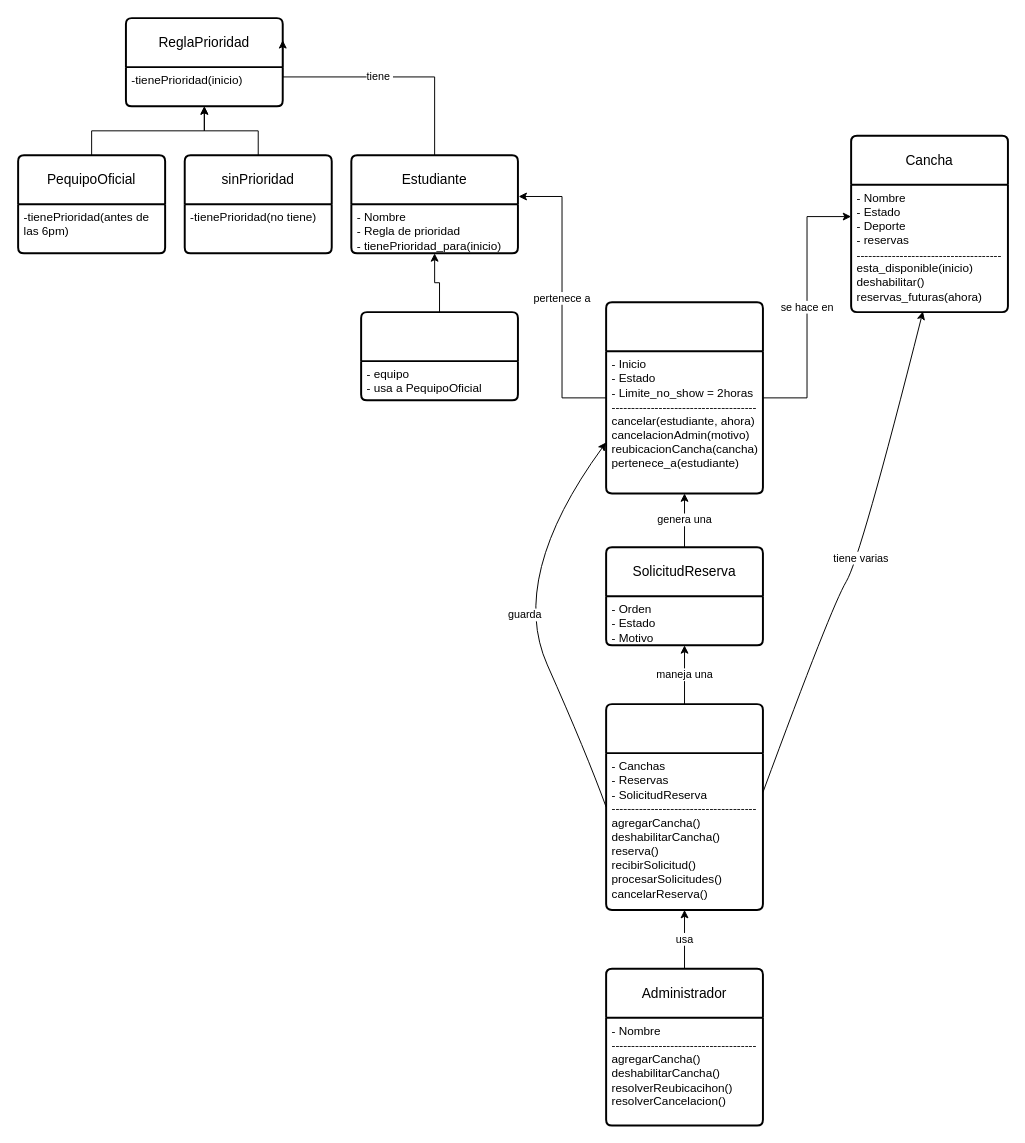
This 1025x1143 diagram has some shape labels left out. The shapes that lost their labels are listed below. From the top down, each one's box as (x1, y1, x2, y2) in pixels, then its label:
(360, 311, 518, 401): Capitan
(605, 301, 763, 494): Reserva
(605, 703, 763, 910): GestorReservas
